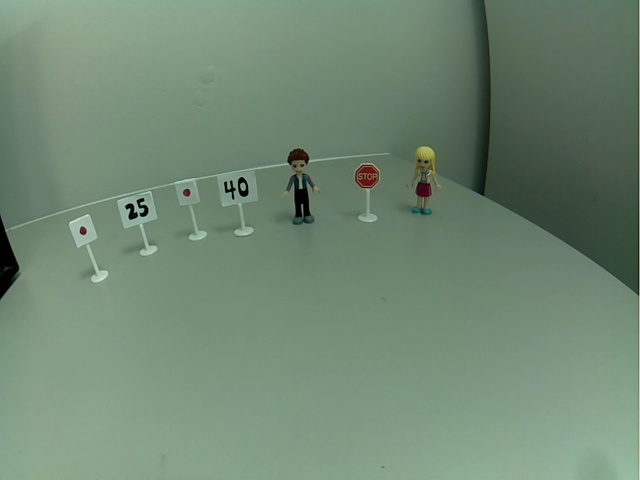people: (279, 146, 324, 228), (406, 144, 443, 217)
red light: (68, 217, 97, 245), (177, 180, 197, 205)
speed 25: (119, 197, 155, 222)
speed 40: (218, 172, 256, 203)
stop: (355, 160, 382, 191)
